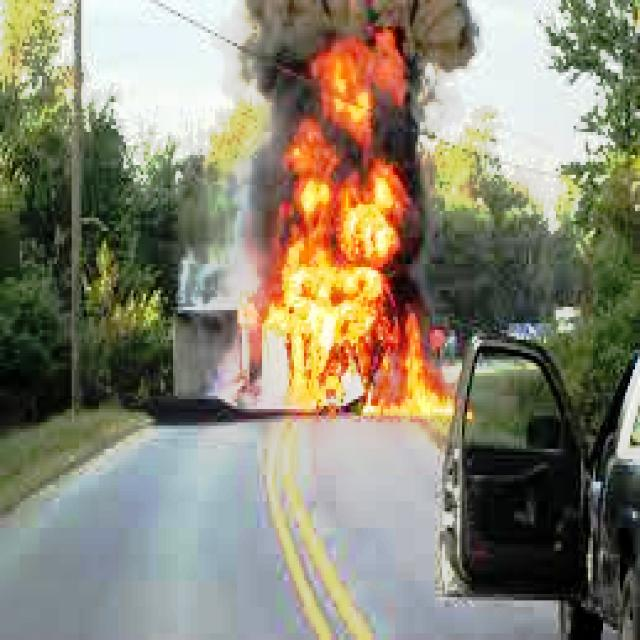api: (258, 38, 458, 424)
